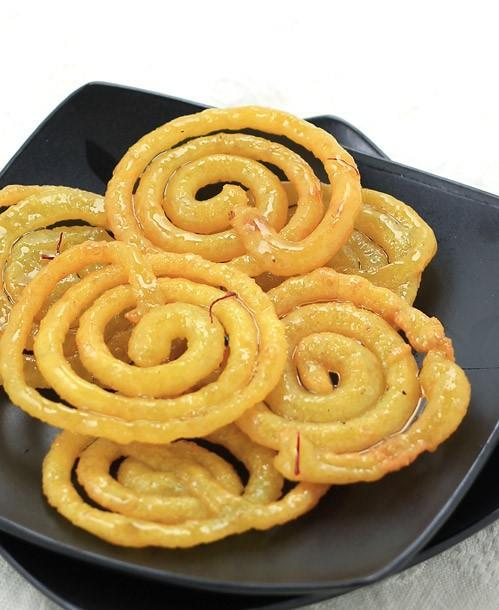Jalebi: (0, 103, 473, 551)
